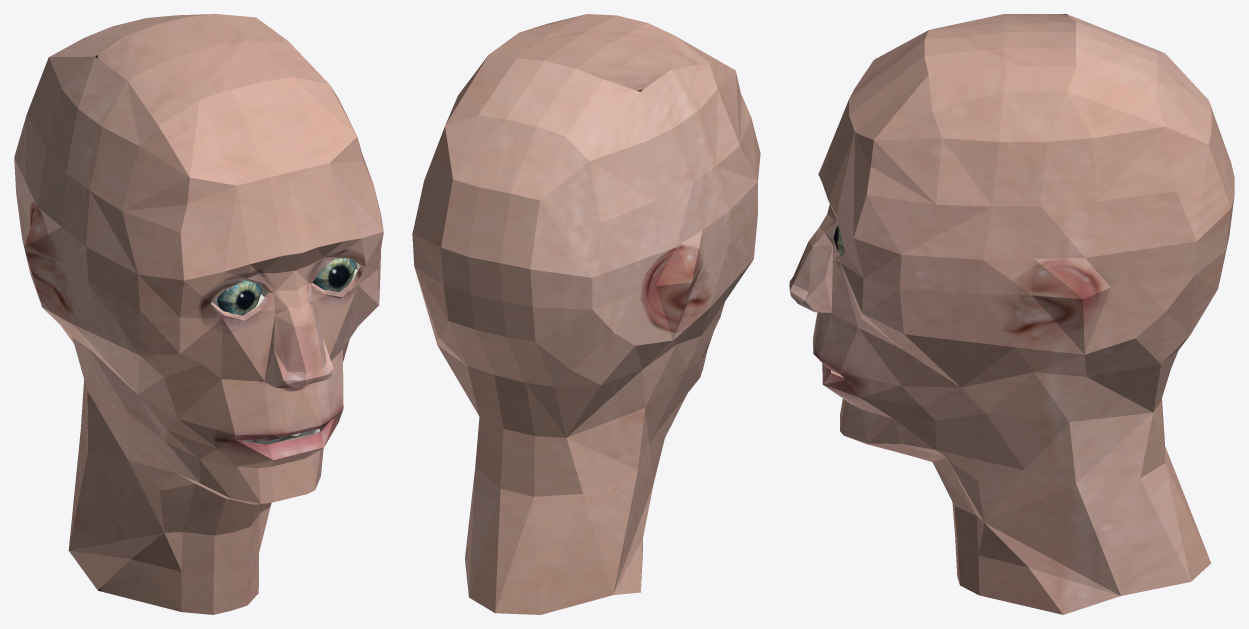
Rendered from human01.obj.
3 views of the same model, side by side, from view 1: azimuth 30°, elevation 25°; view 2: azimuth 150°, elevation 25°; view 3: azimuth 270°, elevation 25° (orthographic). The views are drawn at different scales.
Parts seen in each view (by area): view 1: head, Neck, Jaw, Bottomlip, Group, Eye2_Material, Skin_Material; view 2: head, Neck, Skin_Material, Jaw; view 3: head, Neck, Jaw, Skin_Material.
Part boxes in pixels (x1,y1,x2,y2): head: (14,14,383,448); Neck: (68,349,271,614); Jaw: (90,350,327,531); Bottomlip: (219,416,338,459); Group: (212,280,261,315); Eye2_Material: (312,258,355,291); Skin_Material: (131,18,263,85); head: (412,14,760,437); Neck: (465,344,686,614); Skin_Material: (471,15,631,378); Jaw: (650,318,719,441); head: (789,14,1234,421); Neck: (933,372,1211,614); Jaw: (822,364,1024,514); Skin_Material: (924,40,1233,182).
Size of the model in its own units: 1.32 by 2.41 by 1.81.
1 material, 1 textured.
